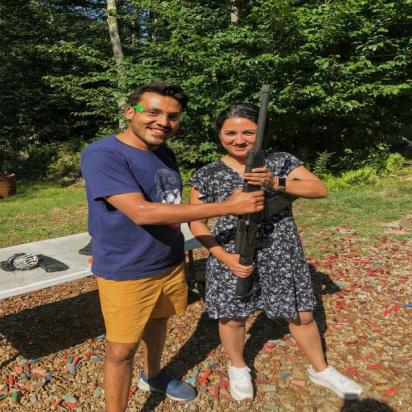Gun: (232, 83, 304, 300)
